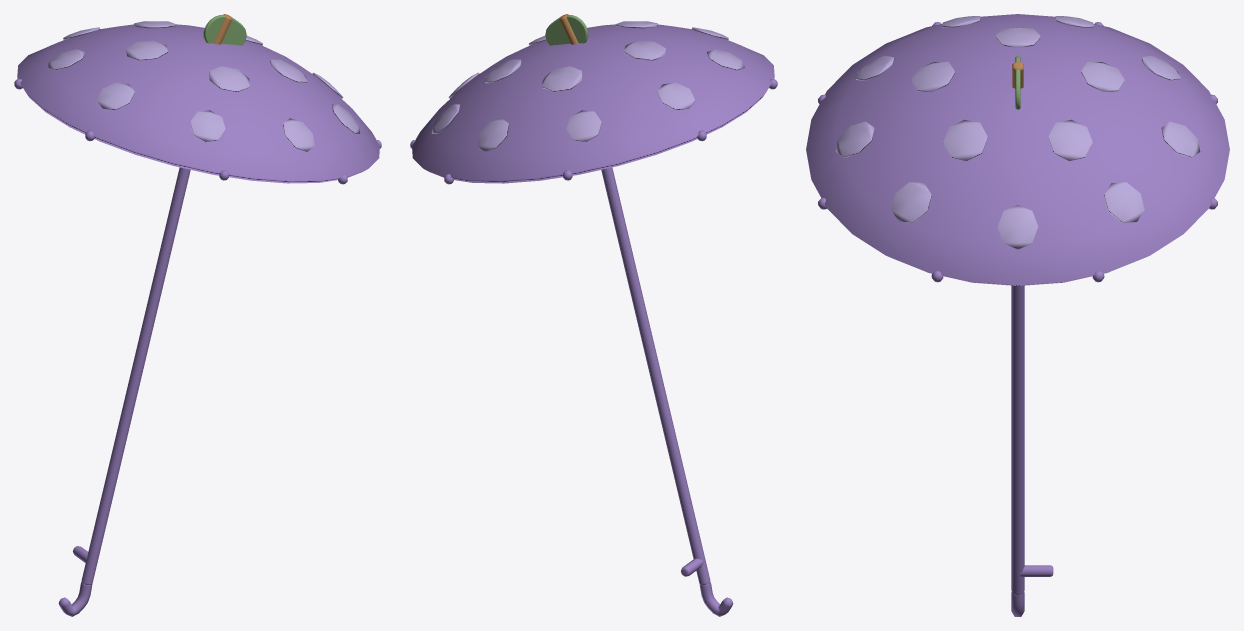
File: grape_umbrella.glb
3 views of the same model, side by side, from view 1: azimuth 30°, elevation 25°; view 2: azimuth 150°, elevation 25°; view 3: azimuth 270°, elevation 25° (orthographic). The views are drawn at different scales.
Visible parts, largest first — view 1: grape_umbrella_ArmR; view 2: grape_umbrella_ArmR; view 3: grape_umbrella_ArmR.
Boxes of the visible parts, bbox=[...] form: grape_umbrella_ArmR: bbox=[14, 14, 381, 616]; grape_umbrella_ArmR: bbox=[410, 14, 777, 616]; grape_umbrella_ArmR: bbox=[806, 14, 1229, 616].
Bounding box in the file's own units: 0.8703 × 1.5 × 0.9.
